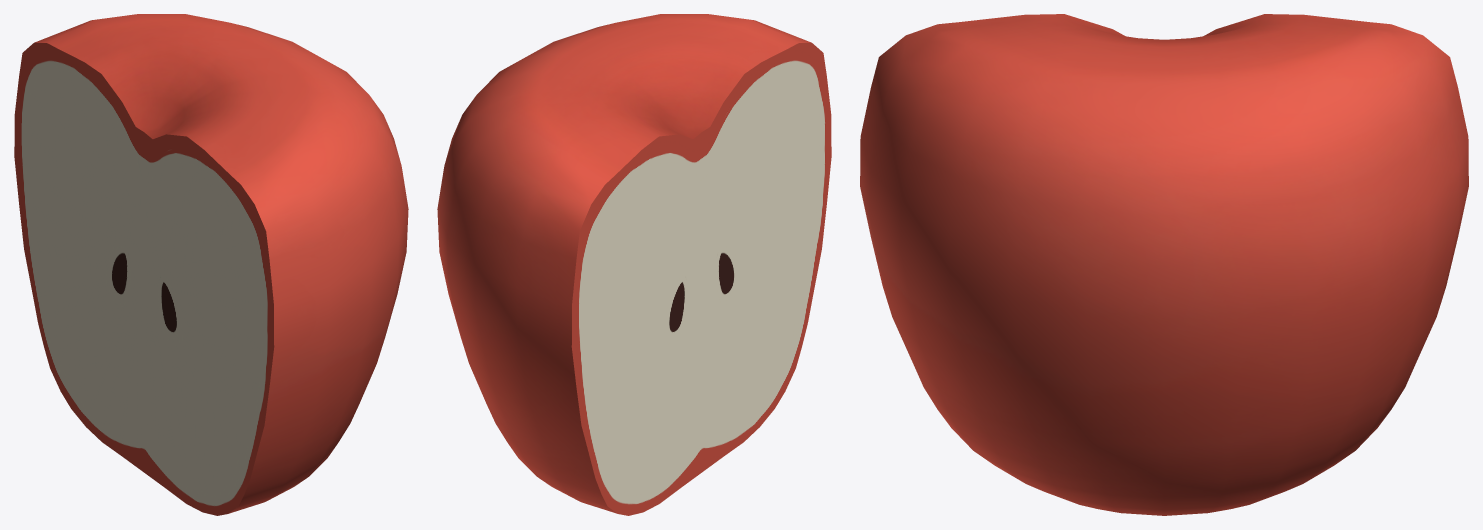
The model's file is apple726.fbx.
3 renders of one model, left to right at view 1: azimuth 30°, elevation 25°; view 2: azimuth 150°, elevation 25°; view 3: azimuth 270°, elevation 25°, orthographic. The views are drawn at different scales.
Parts seen in each view (by area): view 1: apple; view 2: apple; view 3: apple.
Boxes of the visible parts, box(x1,y1,x2,y2) form: apple: box(14, 14, 408, 515); apple: box(437, 14, 831, 515); apple: box(860, 14, 1468, 515).
Bounding box in the file's own units: 1.1 × 1.78 × 2.15.
2 materials, 2 textured.
